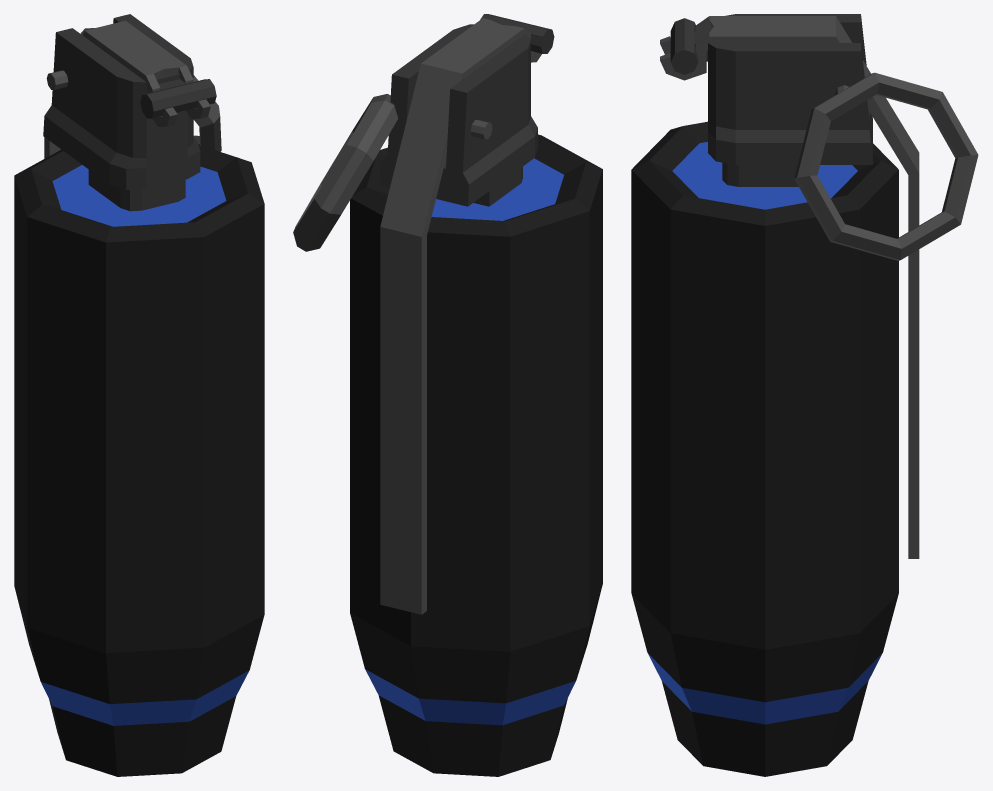
The model's file is scene_PVUO7QmR8d.glb.
3 renders of one model, left to right at view 1: azimuth 30°, elevation 25°; view 2: azimuth 150°, elevation 25°; view 3: azimuth 270°, elevation 25°, orthographic. The views are drawn at different scales.
Visible parts, largest first — view 1: Incendiary_West; view 2: Incendiary_West; view 3: Incendiary_West.
Boxes of the visible parts, x1=… form: Incendiary_West: x1=14, y1=14, x2=264, y2=776; Incendiary_West: x1=293, y1=14, x2=602, y2=776; Incendiary_West: x1=631, y1=14, x2=978, y2=776.
Bounding box in the file's own units: 0.0512 × 0.1472 × 0.0649.
